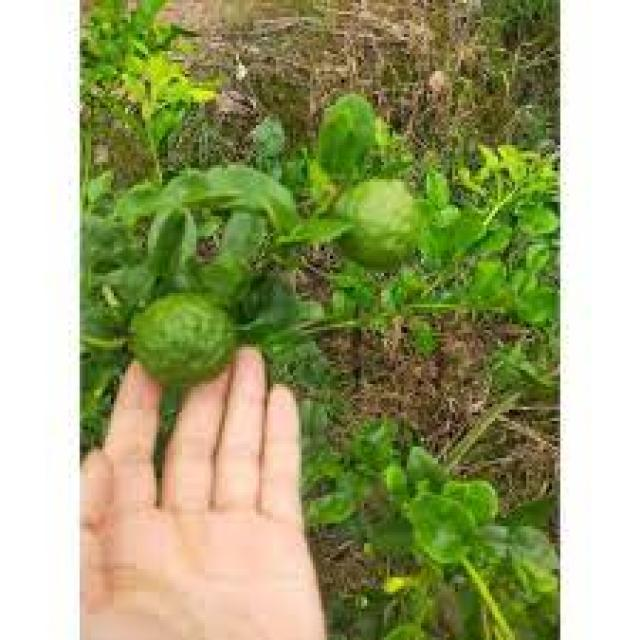Chuc: (125, 287, 236, 387), (333, 174, 421, 270)
